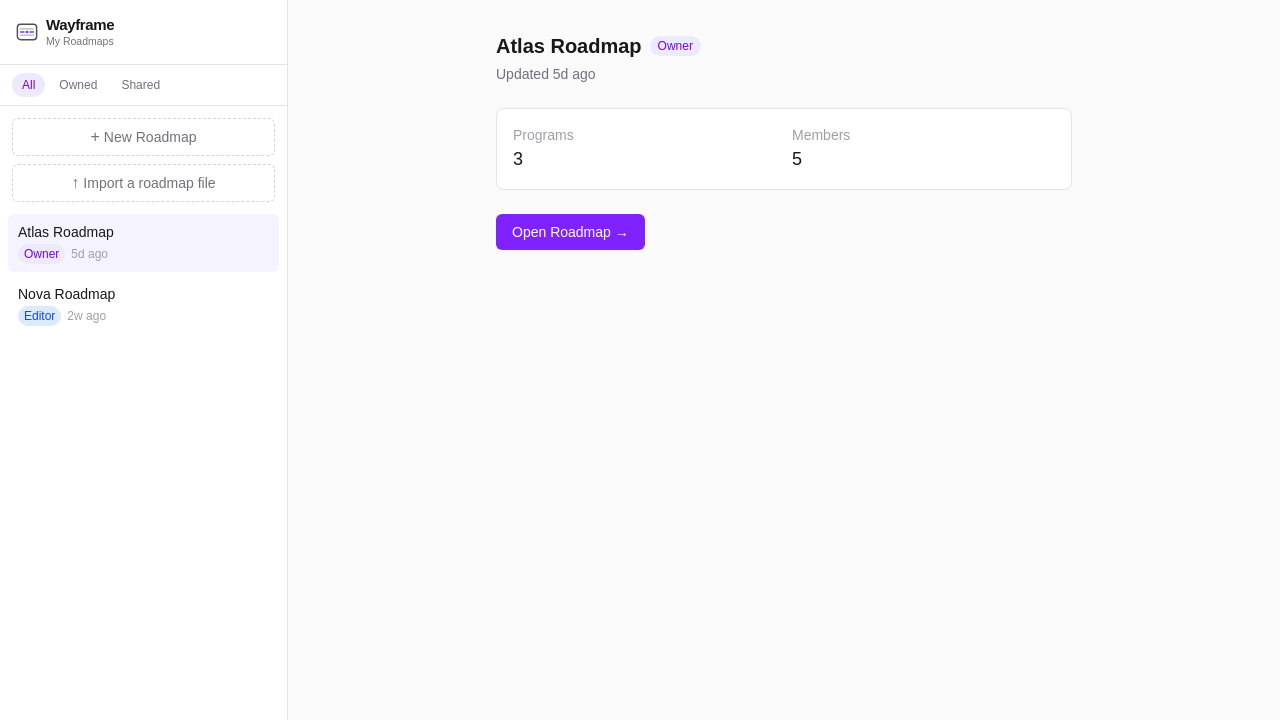
Test: MyRoadmapsLanding (wayframe#123) › filters to owned-only / shared-only via the filter pills
Expected: the text "Nova Roadmap" is shown, [18, 284, 115, 304]
Click the button "Owned": {"x": 78, "y": 85} [49, 73, 107, 97]
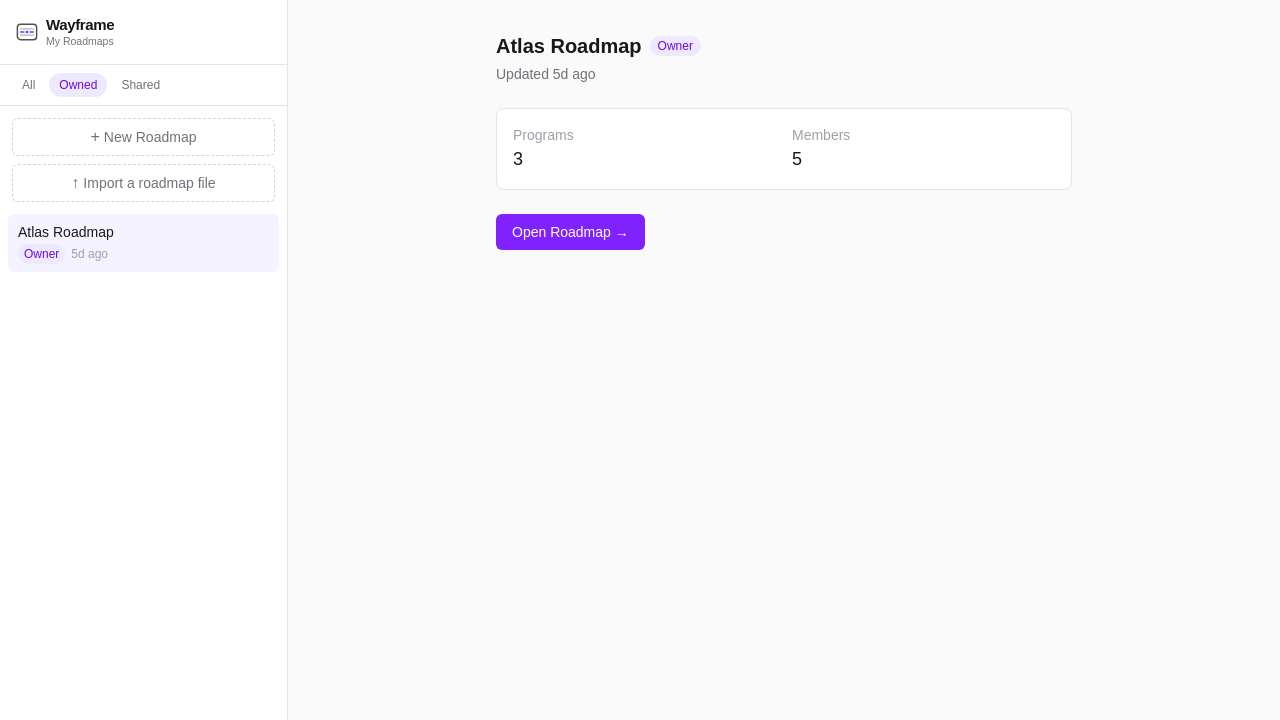
Expected: the text "Atlas Roadmap" is shown, [18, 222, 114, 242]
Expected: the button "Nova Roadmap" is gone
Click the button "Shared": {"x": 141, "y": 85} [111, 73, 170, 97]
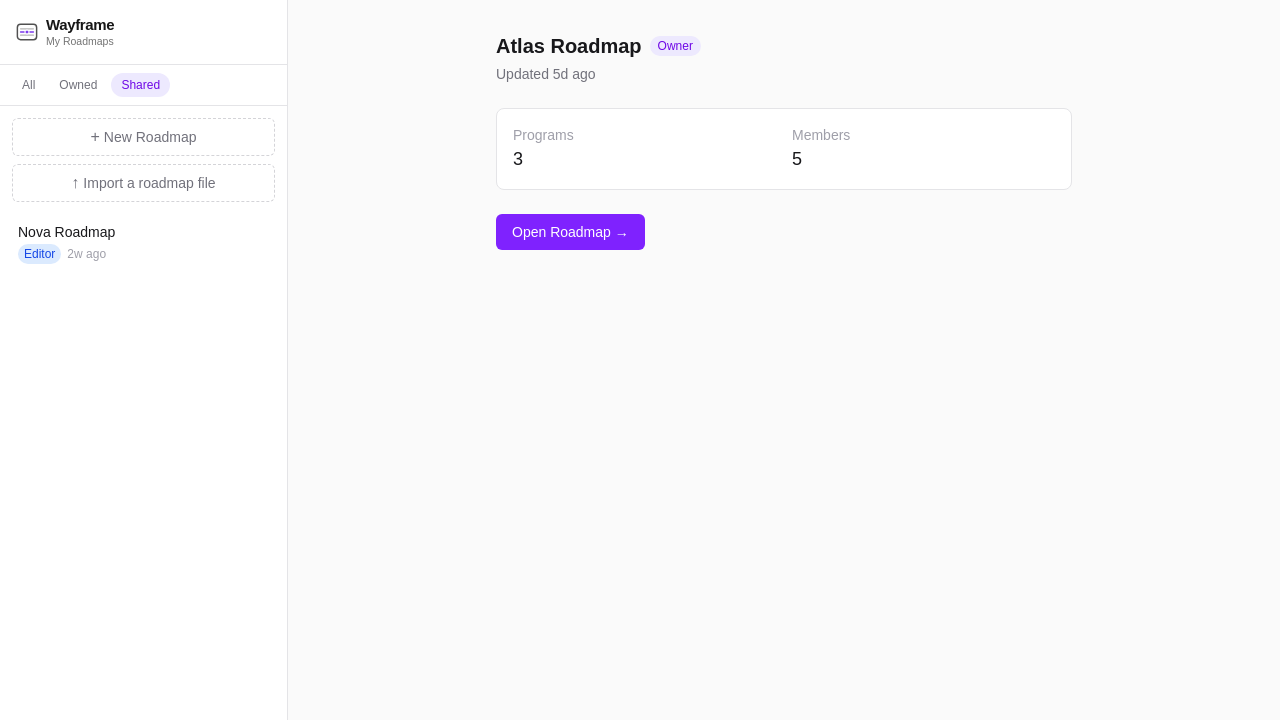
Expected: the text "Nova Roadmap" is shown, [18, 222, 115, 242]
